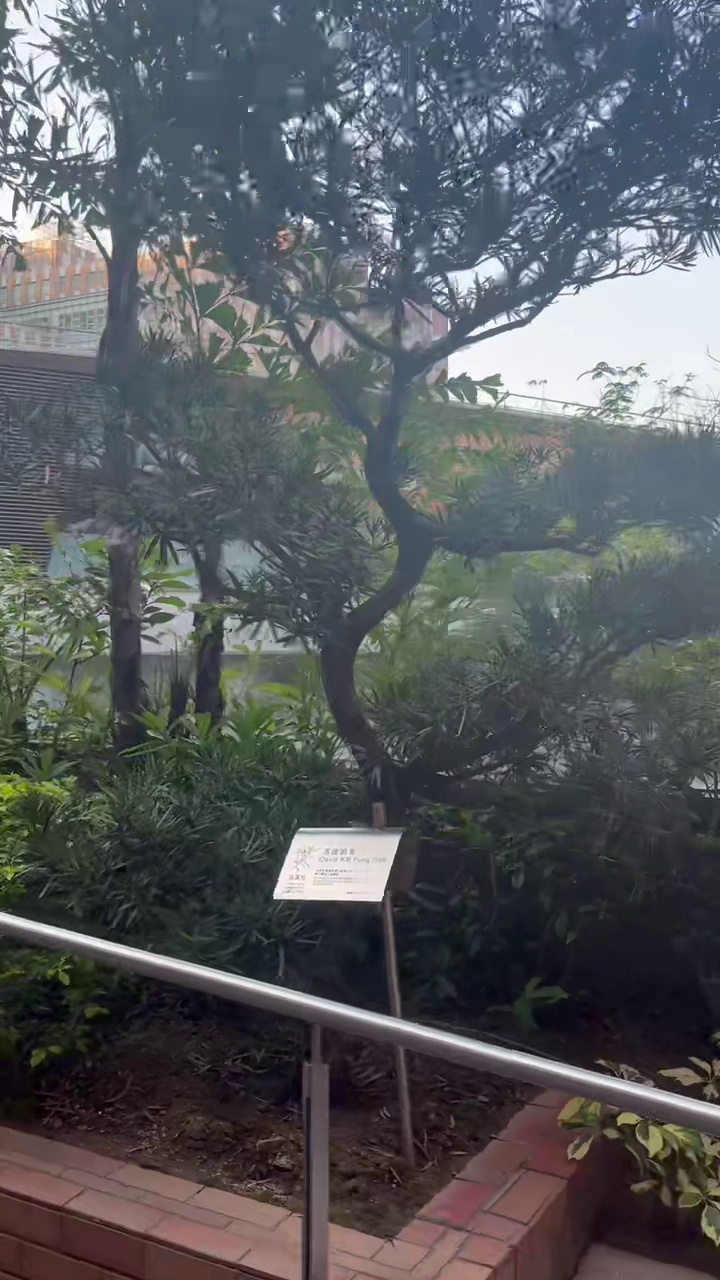Podocarpus macrophyllus: (132, 0, 719, 824)
